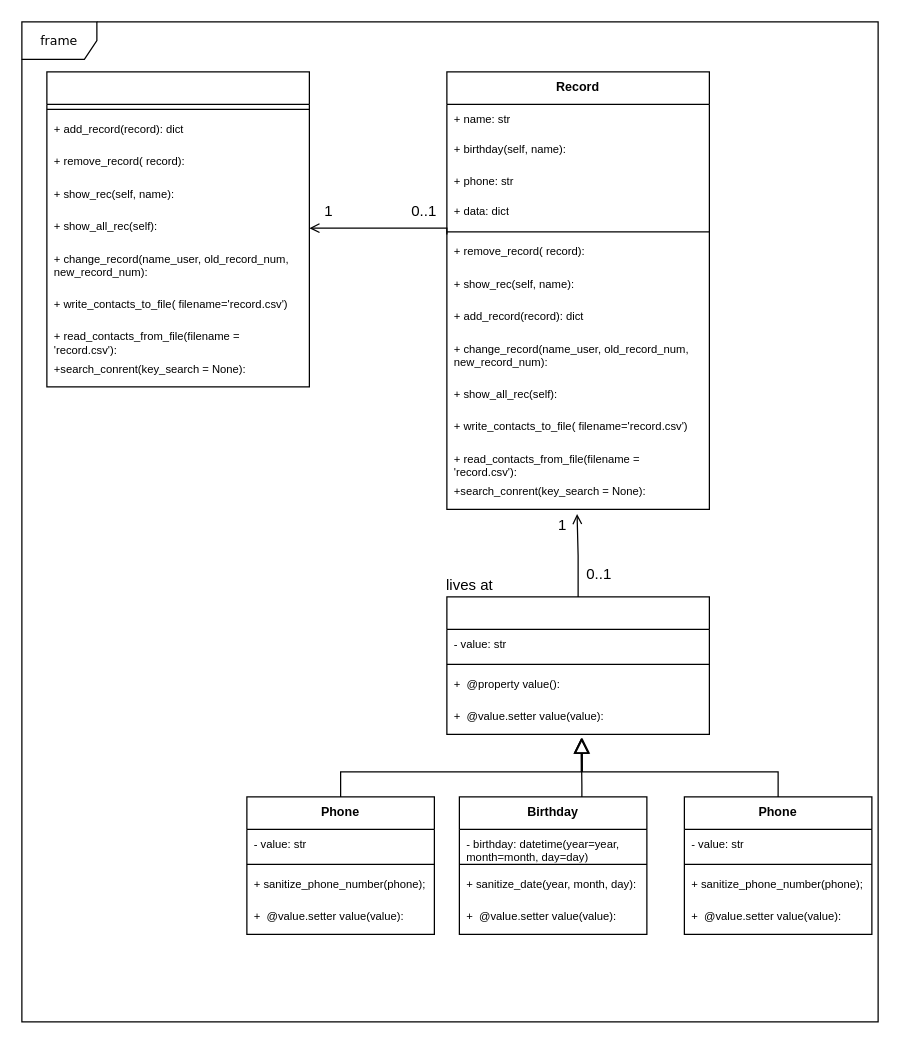
Image size: 900x1044. Some labels were removed from this diagram. The box of each missing label's shape, as (x1, y1, x2, y2) in pixels:
AddressBook: (46, 71, 309, 387)
Field: (446, 596, 709, 734)
